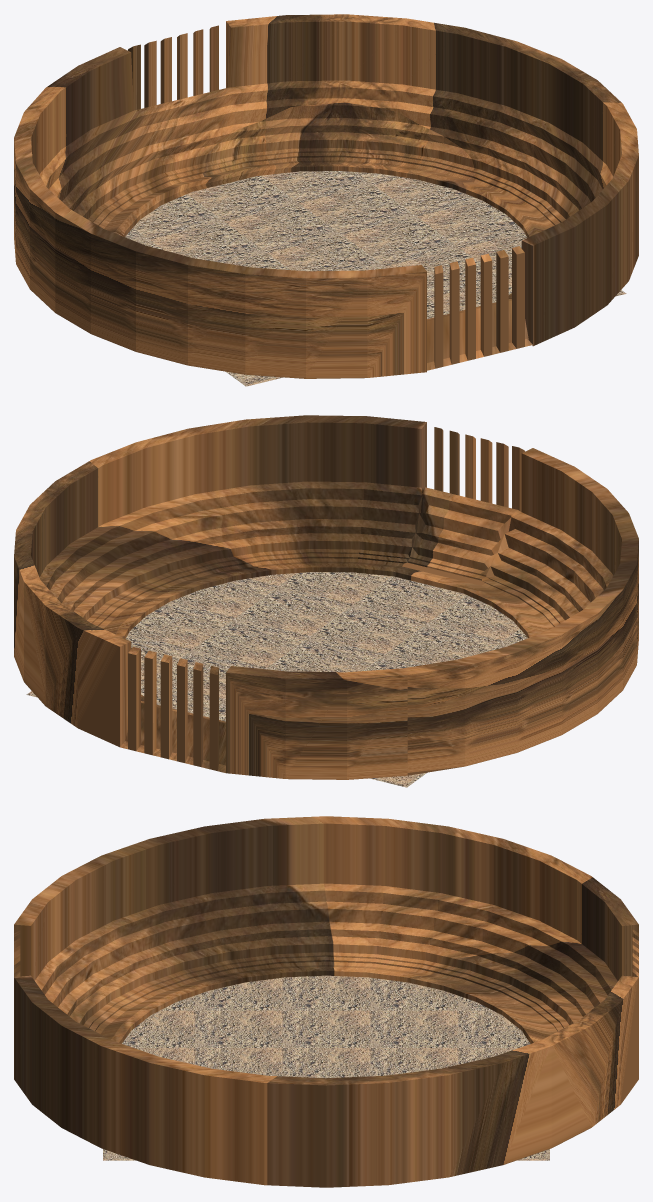
File: Stage_3.fbx
3 renders of one model, top to bottom at view 1: azimuth 30°, elevation 25°; view 2: azimuth 150°, elevation 25°; view 3: azimuth 270°, elevation 25°, orthographic.
Visible parts, largest first — view 1: wall, Stage; view 2: wall, Stage; view 3: wall, Stage.
Part boxes in pixels (bbox=[...]): wall: bbox=[14, 14, 638, 378]; Stage: bbox=[125, 171, 626, 386]; wall: bbox=[14, 415, 638, 779]; Stage: bbox=[26, 572, 527, 787]; wall: bbox=[14, 816, 638, 1187]; Stage: bbox=[103, 975, 549, 1160].
Bounding box in the file's own units: 8552 × 1714 × 8388.
2 materials, 2 textured.
